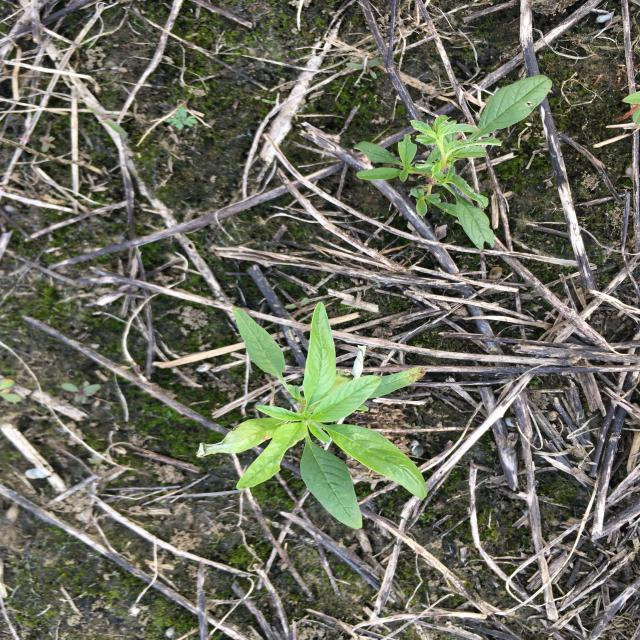Waterhemp: (194, 301, 432, 531), (351, 75, 554, 252)
